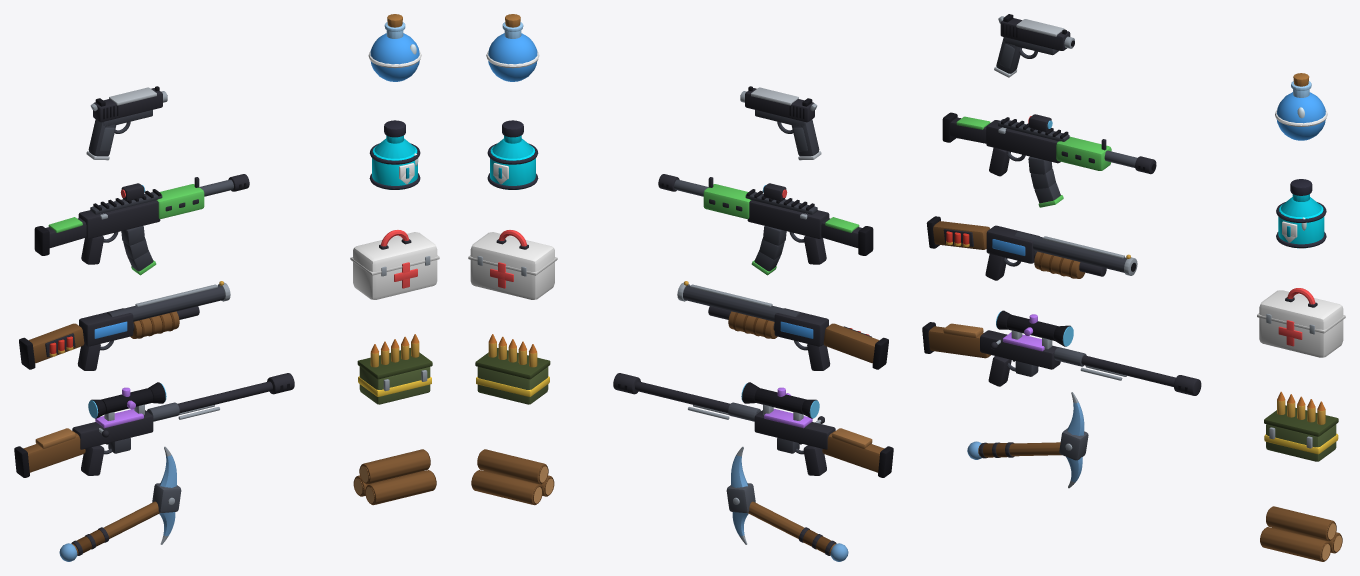
File: items.glb
The picture shows the model from 3 angles, left to right: view 1: azimuth 30°, elevation 25°; view 2: azimuth 150°, elevation 25°; view 3: azimuth 330°, elevation 25°; orthographic projection.
Visible parts, largest first — view 1: W3, W1, W2, L_med, L_ammo, L_wood, W4, W0, L_big, L_mini; view 2: W3, W1, W2, L_med, L_ammo, L_wood, W4, W0, L_big, L_mini; view 3: W3, W1, W2, L_med, L_ammo, L_wood, W4, W0, L_big, L_mini.
Boxes of the visible parts, box(x1,y1,x2,y2) form: W3: box(14, 373, 294, 477); W1: box(34, 174, 249, 275); W2: box(19, 281, 230, 370); L_med: box(350, 230, 439, 299); L_ammo: box(357, 334, 432, 404); L_wood: box(353, 449, 436, 505); W4: box(59, 446, 181, 561); W0: box(86, 86, 167, 160); L_big: box(369, 120, 420, 189); L_mini: box(368, 14, 421, 81); W3: box(613, 373, 893, 477); W1: box(658, 174, 873, 275); W2: box(677, 281, 888, 370); L_med: box(468, 230, 557, 299); L_ammo: box(475, 334, 550, 404); L_wood: box(471, 449, 554, 505); W4: box(726, 446, 848, 561); W0: box(740, 86, 821, 160); L_big: box(487, 120, 538, 189); L_mini: box(486, 14, 539, 81); W3: box(922, 310, 1201, 395); W1: box(942, 112, 1156, 207); W2: box(926, 216, 1137, 280); L_med: box(1257, 288, 1345, 357); L_ammo: box(1264, 391, 1338, 461); L_wood: box(1260, 506, 1342, 561); W4: box(967, 392, 1088, 488); W0: box(994, 14, 1074, 77); L_big: box(1276, 179, 1326, 248); L_mini: box(1275, 73, 1327, 140).
Size of the model in its own units: 122 by 135 by 13.7.
